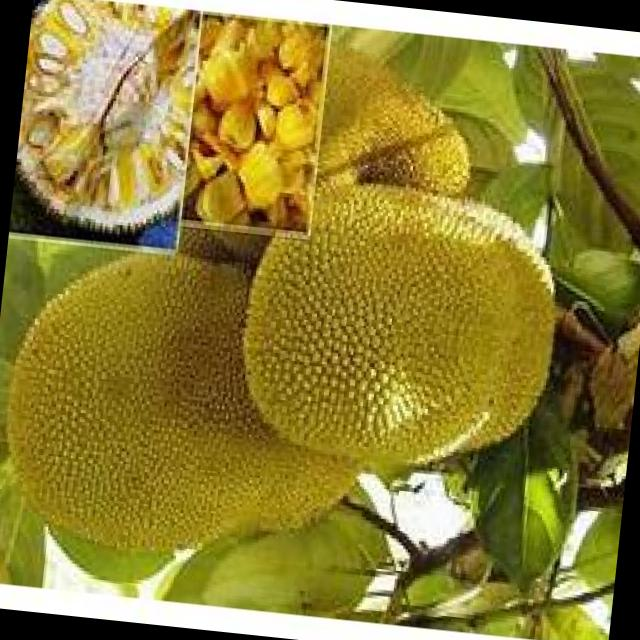Fruit: (0, 207, 418, 632), (207, 145, 591, 506)
